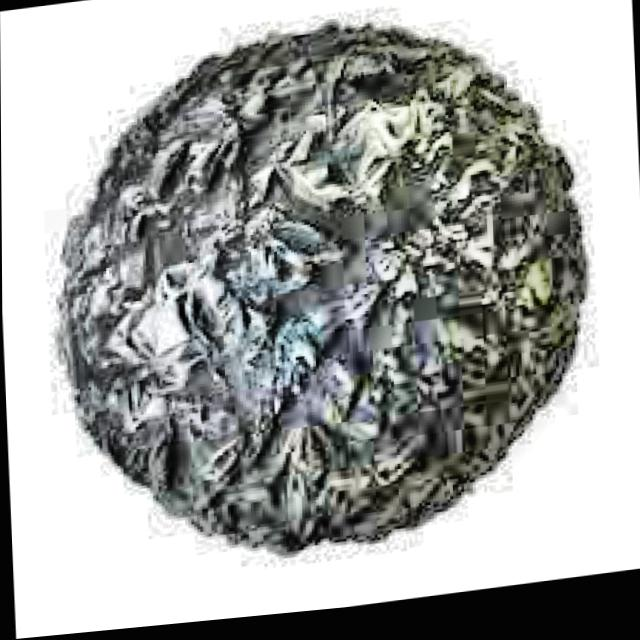Foil: (0, 0, 640, 588)
